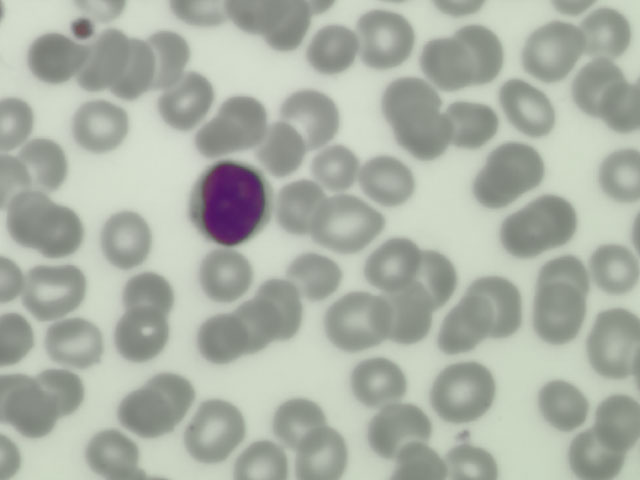Platelets: (67, 16, 97, 42)
RBC: (589, 312, 640, 378), (456, 22, 510, 81), (435, 367, 495, 417), (362, 151, 415, 207), (352, 352, 405, 408), (272, 390, 325, 446), (328, 291, 381, 347), (323, 196, 376, 252), (273, 178, 326, 234), (287, 246, 340, 302), (253, 280, 306, 336), (192, 310, 245, 366), (587, 241, 640, 297), (282, 89, 335, 145), (253, 121, 306, 177), (211, 93, 264, 149), (570, 58, 623, 114), (582, 5, 635, 61), (526, 21, 579, 77), (502, 80, 555, 136), (420, 33, 473, 89), (359, 13, 412, 69), (309, 23, 362, 79), (189, 402, 242, 458), (119, 385, 172, 441), (124, 268, 177, 324), (116, 306, 169, 362), (49, 314, 102, 370), (101, 212, 154, 268), (32, 203, 85, 259), (18, 137, 71, 193), (161, 69, 214, 125), (143, 31, 196, 87), (107, 37, 160, 93), (77, 31, 130, 87), (25, 31, 78, 87), (73, 98, 126, 154), (292, 424, 345, 479), (569, 424, 622, 479), (258, 1, 311, 56), (85, 424, 138, 479), (24, 267, 87, 313), (200, 250, 253, 302), (230, 297, 277, 355), (6, 191, 56, 245), (592, 391, 640, 447), (10, 387, 63, 437), (407, 250, 456, 303), (473, 280, 524, 330), (372, 406, 427, 451), (531, 254, 588, 297), (382, 292, 430, 341), (596, 81, 640, 134), (237, 435, 286, 480), (600, 146, 640, 201), (502, 214, 551, 258), (434, 307, 483, 351), (447, 99, 496, 143), (400, 111, 449, 155), (384, 74, 433, 118), (367, 240, 416, 284), (531, 194, 580, 238), (465, 166, 514, 210), (495, 143, 544, 187), (534, 293, 583, 337), (537, 384, 586, 428), (1, 91, 35, 152), (42, 366, 85, 412), (312, 147, 359, 189), (442, 444, 495, 480), (147, 370, 198, 407), (168, 1, 230, 30), (1, 153, 34, 205), (1, 314, 32, 369), (392, 445, 438, 480), (1, 373, 36, 415), (1, 251, 23, 305), (434, 1, 486, 12)
WBC: (189, 164, 275, 246)
